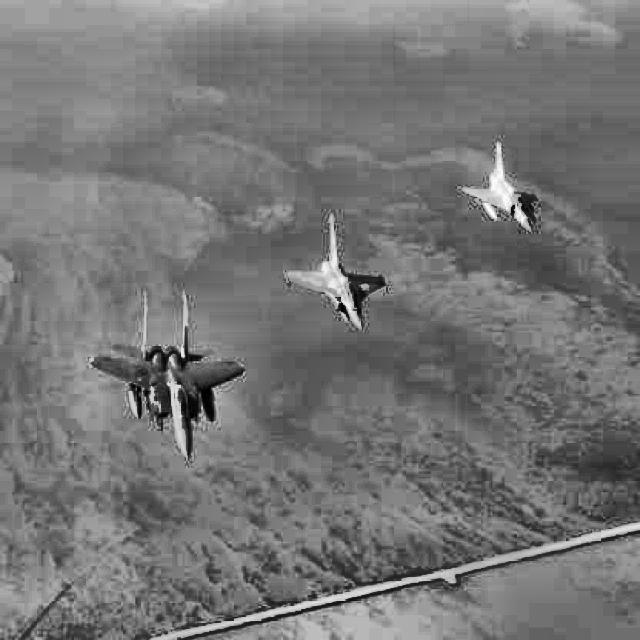F15: (88, 292, 245, 459)
Mirage2000: (461, 142, 537, 232)
Rafale: (283, 214, 388, 331)
